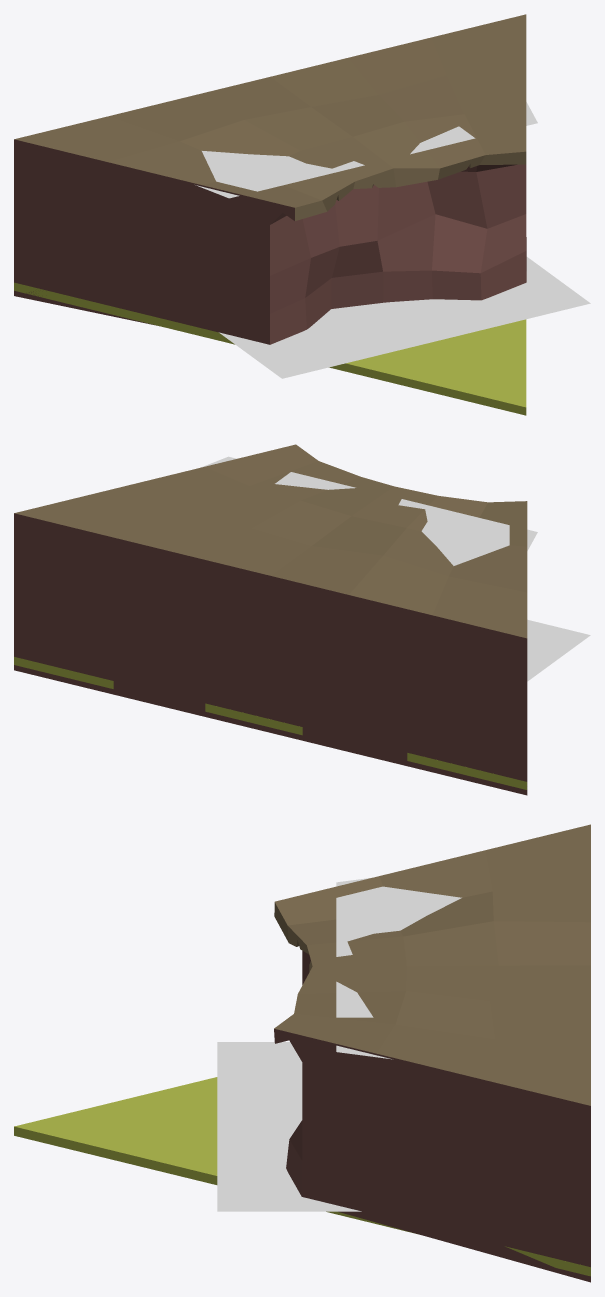
Rendered from tile3.glb.
3 renders of one model, top to bottom at view 1: azimuth 30°, elevation 25°; view 2: azimuth 150°, elevation 25°; view 3: azimuth 270°, elevation 25°, orthographic. The views are drawn at different scales.
Parts seen in each view (by area): view 1: hill.003, rocks3, ground.003, bushes3; view 2: hill.003, bushes3, ground.003, rocks3; view 3: hill.003, rocks3, ground.003, bushes3.
Boxes of the visible parts, <box> form: hill.003: <box>14,14,526,344</box>; rocks3: <box>219,257,590,378</box>; ground.003: <box>14,282,526,415</box>; bushes3: <box>195,102,537,198</box>; hill.003: <box>14,444,527,795</box>; bushes3: <box>201,456,537,565</box>; ground.003: <box>14,657,527,789</box>; rocks3: <box>527,619,590,681</box>; hill.003: <box>274,824,590,1282</box>; rocks3: <box>217,1042,361,1211</box>; ground.003: <box>14,1077,590,1276</box>; bushes3: <box>336,877,461,1059</box>.
Bounding box in the file's own units: 1 × 0.3024 × 0.8661.
